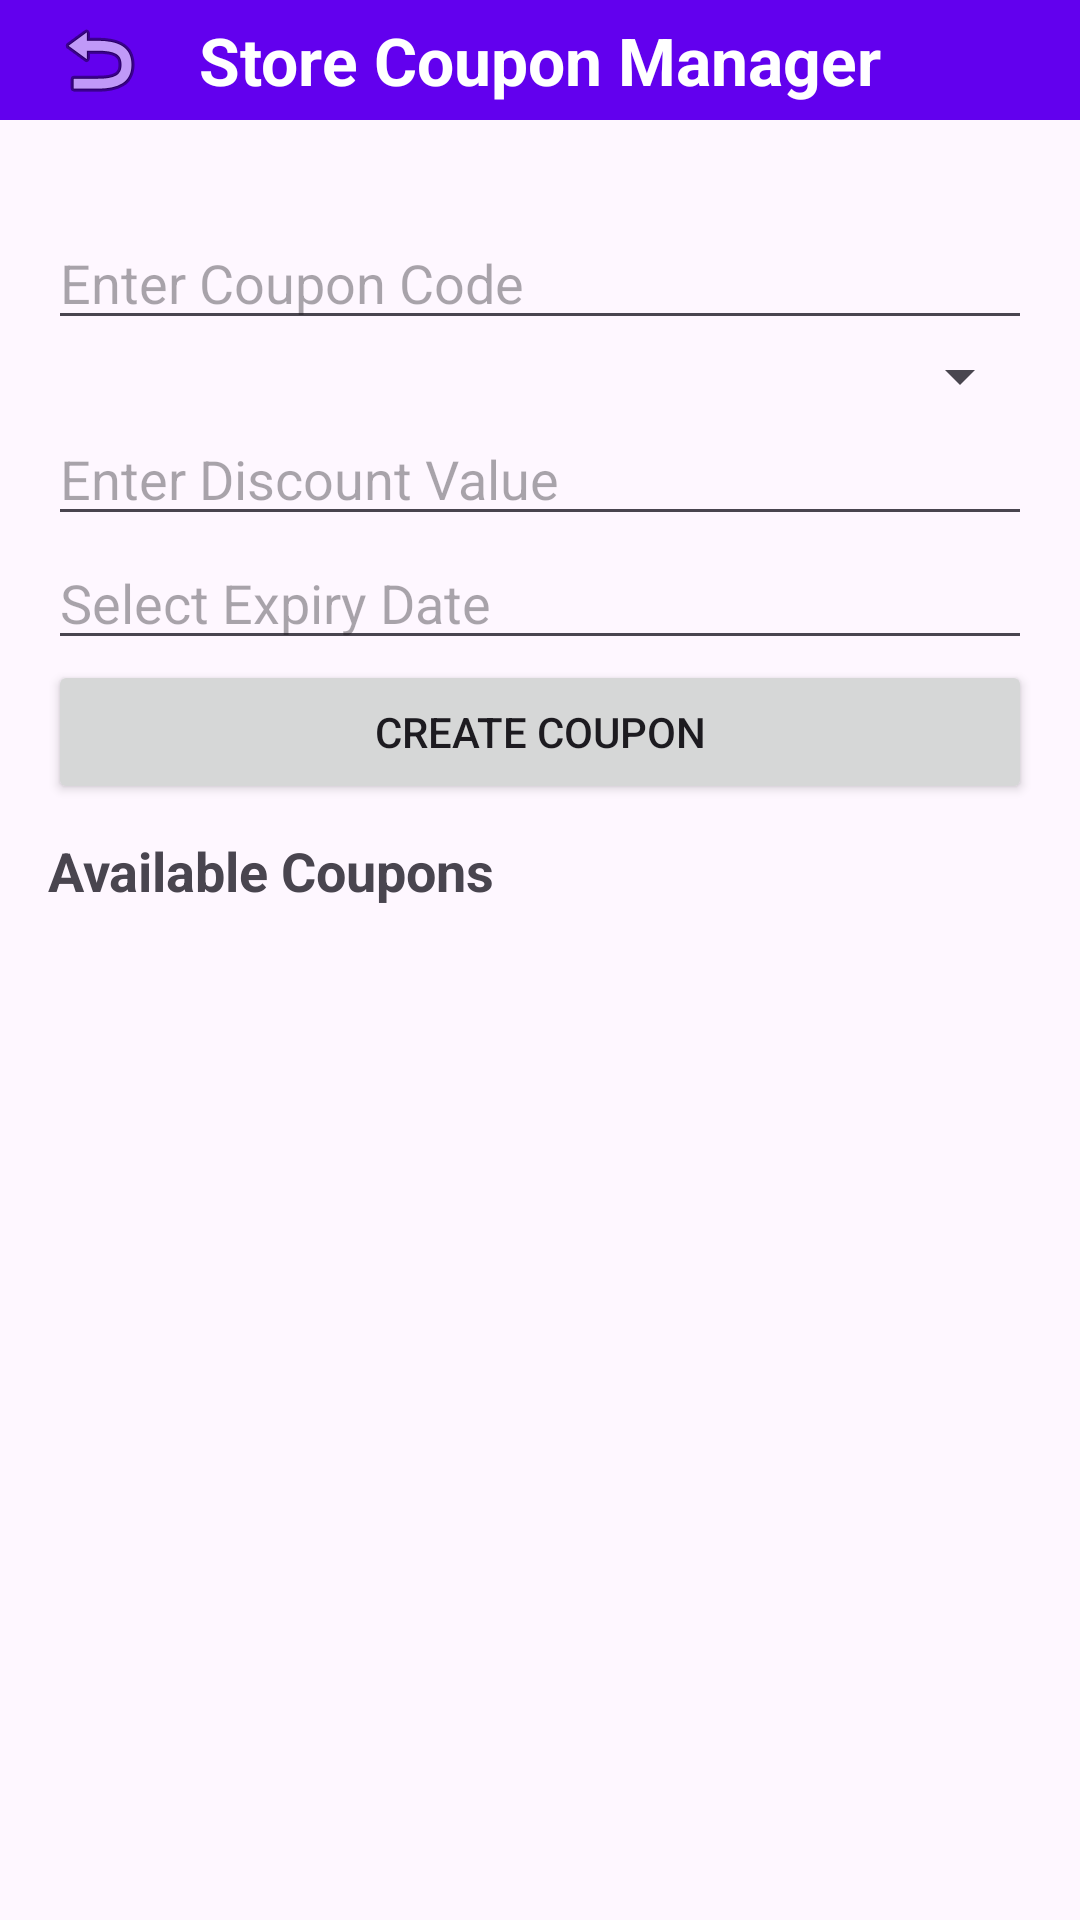

Icon click points for this 1080×1920 phone screenshot, format (x,y):
Back: (100,60)
